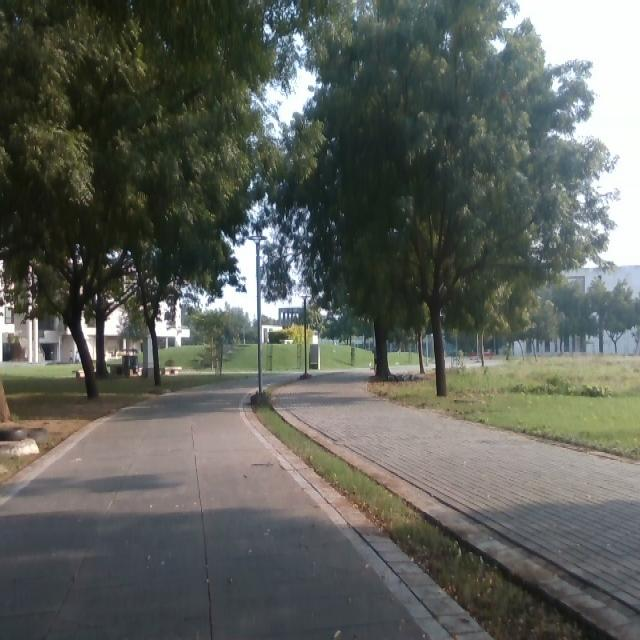lane: (0, 375, 432, 640)
